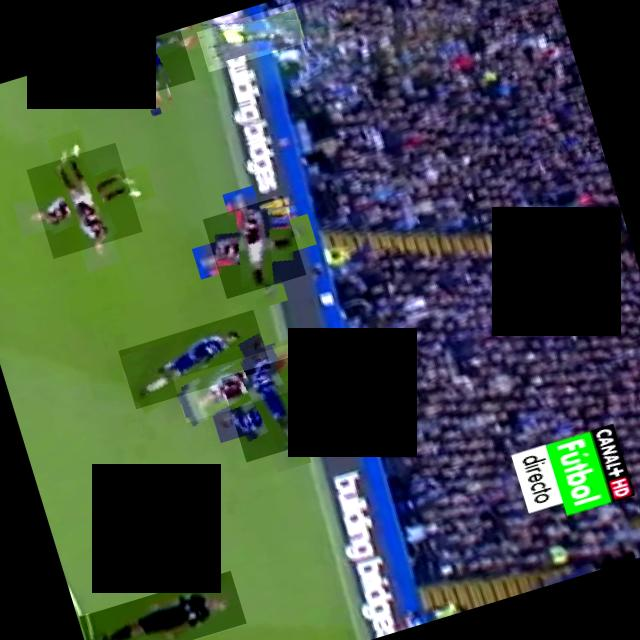referee: (78, 570, 245, 640), (195, 2, 305, 72)
soccer-player: (117, 309, 270, 409), (25, 142, 141, 258), (220, 352, 330, 462), (172, 341, 310, 423), (201, 195, 305, 299), (102, 28, 194, 102)
